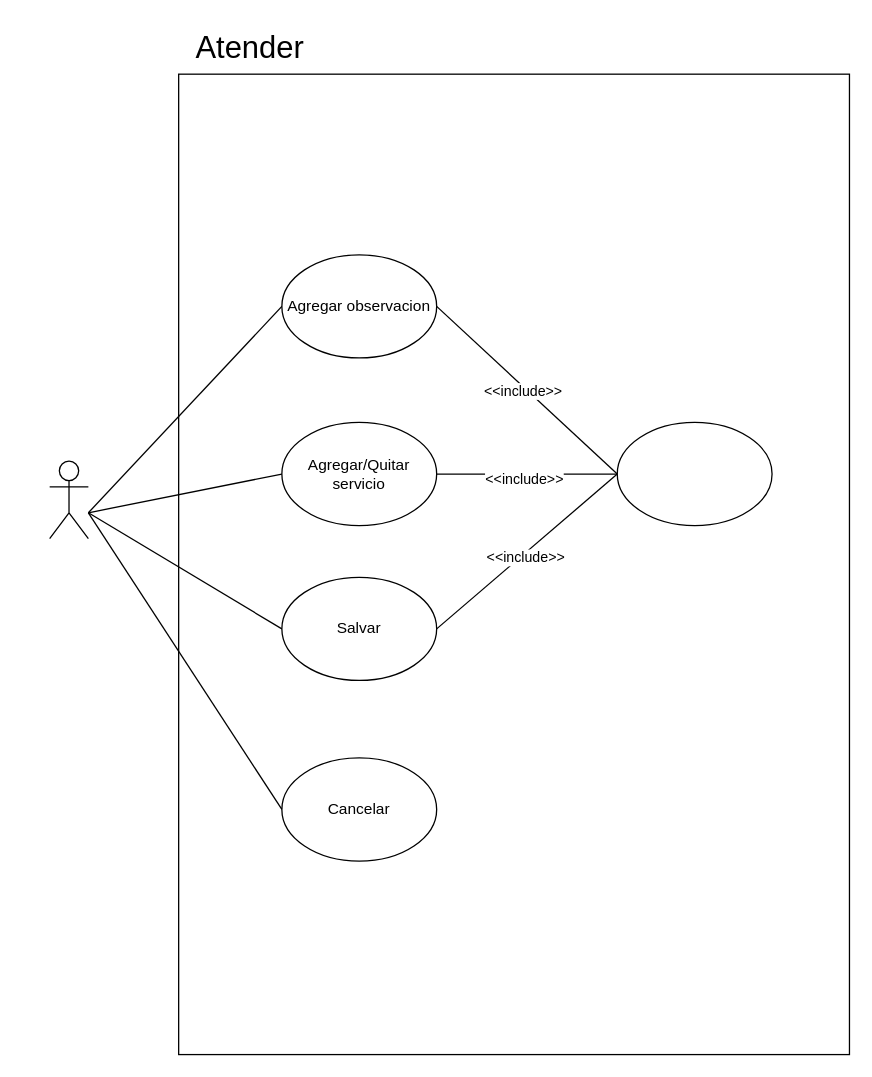
This 872x1077 diagram has some shape labels left out. Each missing label, with the centre of its shape:
administrador: (x=68, y=499)
Archivos .DAT: (x=694, y=473)
